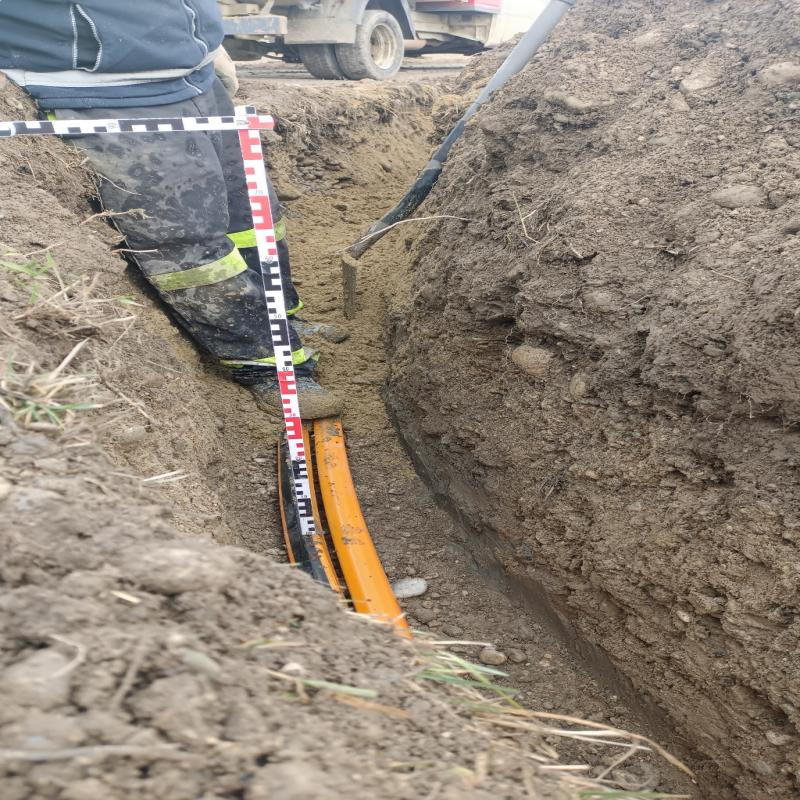Orang-Speednetrohrchen: (311, 418, 412, 641)
